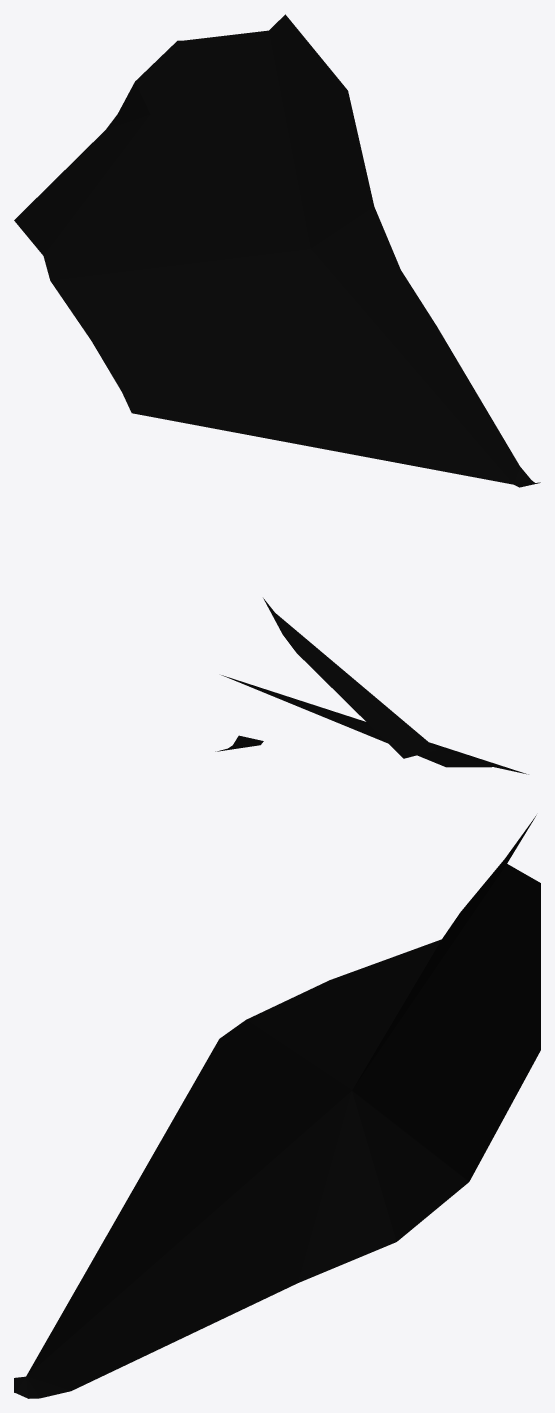
3 renders of one model, top to bottom at view 1: azimuth 30°, elevation 25°; view 2: azimuth 150°, elevation 25°; view 3: azimuth 270°, elevation 25°, orthographic. The views are drawn at different scales.
Bounding box in the file's own units: 1.67 × 1.66 × 1.67.
3 materials, 3 textured.
